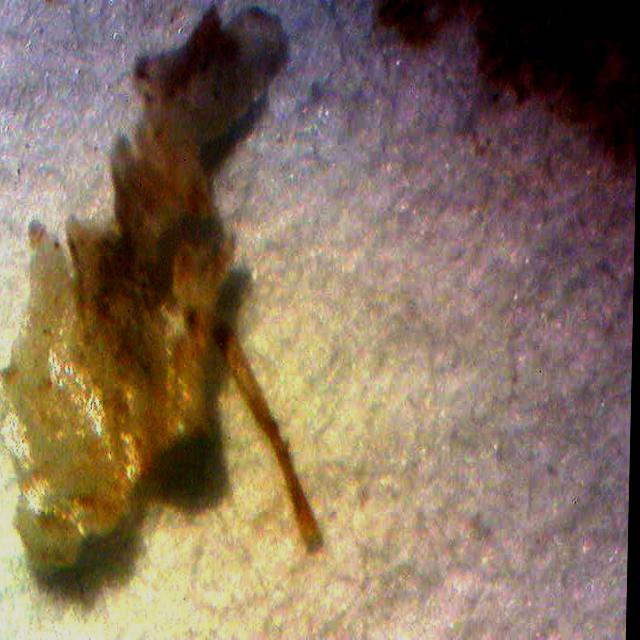microplastic: (0, 0, 303, 604)
